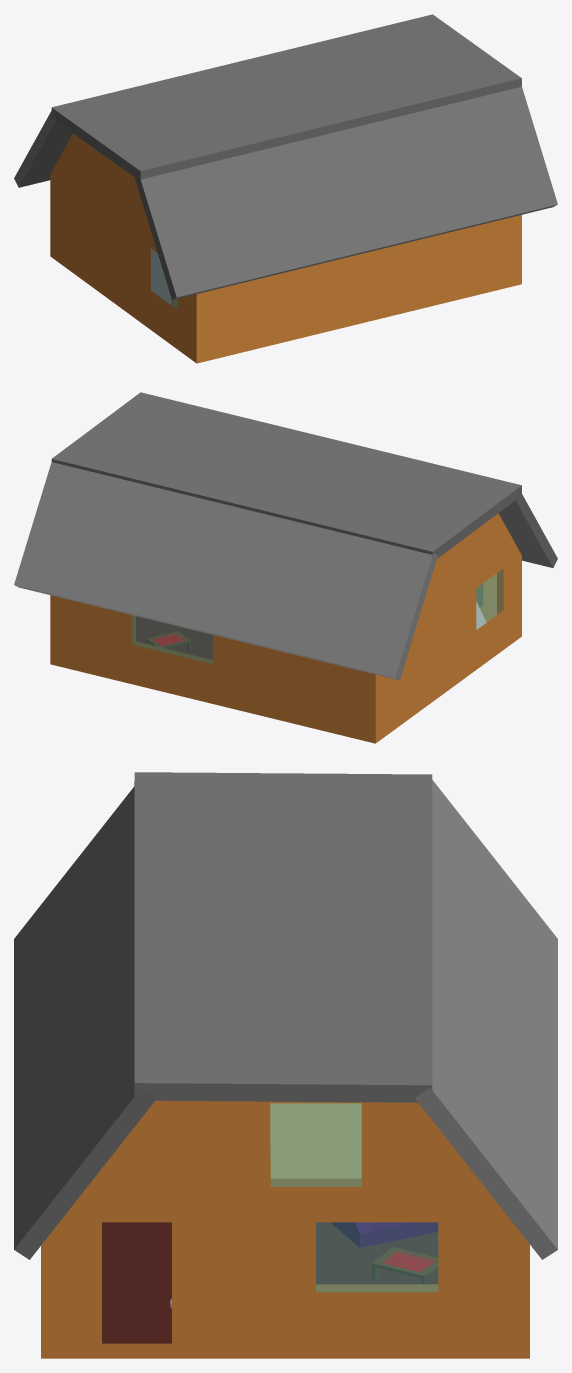
Rendered from house 1.fbx.
The picture shows the model from 3 angles, top to bottom: view 1: azimuth 30°, elevation 25°; view 2: azimuth 150°, elevation 25°; view 3: azimuth 270°, elevation 25°; orthographic projection. The views are drawn at different scales.
Visible parts, largest first — view 1: Cube; view 2: Cube, Cube.007; view 3: Cube, Cube.003, Cube.007.
Part boxes in pixels (x1,y1,x2,y2): Cube: (14, 14, 557, 363); Cube: (14, 392, 557, 743); Cube.007: (146, 631, 190, 649); Cube: (14, 772, 557, 1358); Cube.003: (331, 1222, 438, 1247); Cube.007: (371, 1247, 438, 1284).
Size of the model in its own units: 2074 by 929 by 1533.
